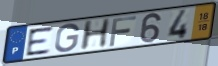4: (166, 8, 190, 40)
6: (139, 11, 163, 44)
E: (25, 25, 55, 58)
F: (108, 15, 138, 48)
G: (53, 23, 81, 54)
H: (78, 17, 113, 52)
